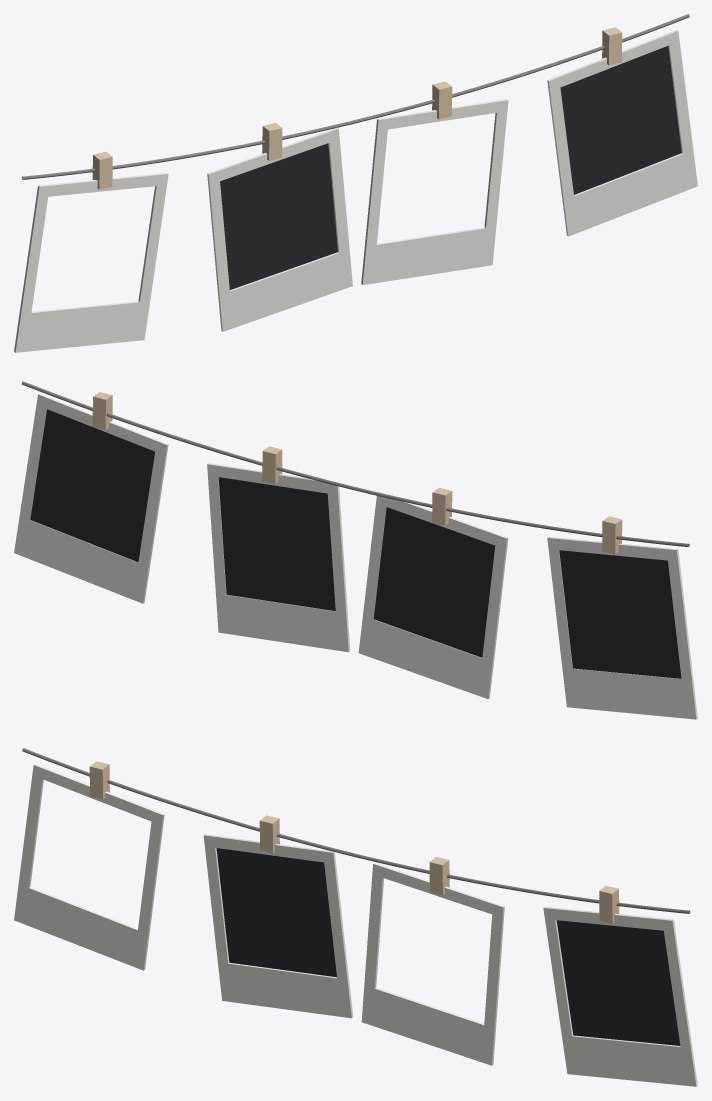
File: 4-photo-frame-x90.glb
3 renders of one model, top to bottom at view 1: azimuth 30°, elevation 25°; view 2: azimuth 150°, elevation 25°; view 3: azimuth 330°, elevation 25°, orthographic.
Visible parts, largest first — view 1: cut_04, cut_02, PolaroidCard_01, PolaroidCard_03, PolaroidCard_02, PolaroidCard_04, Clothesline, Clothespin_02, Clothespin_04, Clothespin_01, Clothespin_03; view 2: cut_01, cut_03, cut_02, cut_04, PolaroidCard_01, PolaroidCard_04, PolaroidCard_03, PolaroidCard_02, Clothesline, Clothespin_03, Clothespin_02, Clothespin_04 (+1 smaller); view 3: cut_04, cut_02, PolaroidCard_03, PolaroidCard_01, PolaroidCard_04, PolaroidCard_02, Clothesline, Clothespin_03, Clothespin_01, Clothespin_04, Clothespin_02.
Part boxes in pixels (x1,y1,x2,y2): cut_04: (560, 46, 681, 194); cut_02: (220, 143, 337, 289); PolaroidCard_01: (14, 173, 168, 352); PolaroidCard_03: (361, 99, 508, 284); PolaroidCard_02: (207, 127, 352, 331); PolaroidCard_04: (547, 30, 697, 236); Clothesline: (21, 14, 689, 179); Clothespin_02: (262, 123, 282, 160); Clothespin_04: (602, 27, 622, 65); Clothespin_01: (92, 151, 112, 189); Clothespin_03: (432, 81, 452, 119); cut_01: (559, 550, 681, 678); cut_03: (218, 477, 335, 610); cut_02: (373, 507, 495, 657); cut_04: (30, 409, 154, 561); PolaroidCard_01: (547, 537, 697, 719); PolaroidCard_04: (14, 393, 168, 603); PolaroidCard_03: (207, 463, 350, 652); PolaroidCard_02: (358, 491, 508, 699); Clothesline: (21, 381, 689, 547); Clothespin_03: (262, 446, 282, 484); Clothespin_02: (432, 487, 452, 525); Clothespin_04: (92, 392, 112, 429); cut_04: (556, 920, 680, 1045); cut_02: (216, 848, 336, 977); PolaroidCard_03: (361, 862, 504, 1065); PolaroidCard_01: (14, 764, 164, 970); PolaroidCard_04: (543, 907, 697, 1086); PolaroidCard_02: (203, 834, 353, 1018); Clothesline: (22, 748, 690, 913); Clothespin_03: (429, 857, 449, 894); Clothespin_01: (89, 761, 109, 799); Clothespin_04: (599, 885, 619, 923); Clothespin_02: (259, 815, 279, 853).
Size of the model in its own units: 5.22 by 1.51 by 0.0977.
